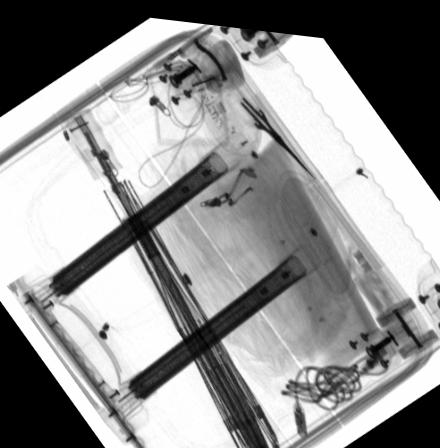Scissors: (222, 66, 316, 174)
